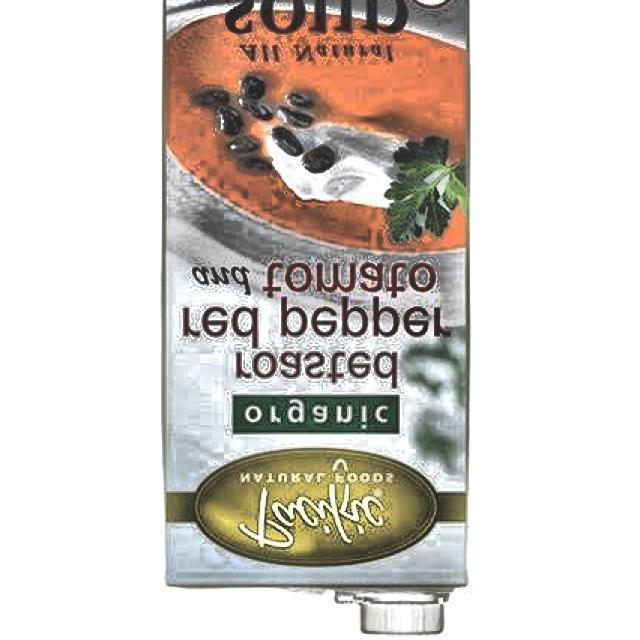cardboard: (160, 0, 470, 597)
